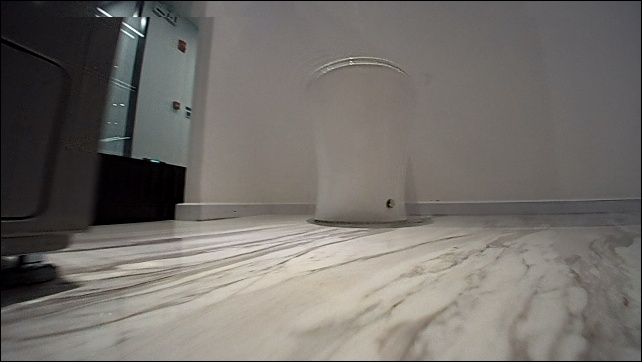toilet: (300, 54, 419, 225)
